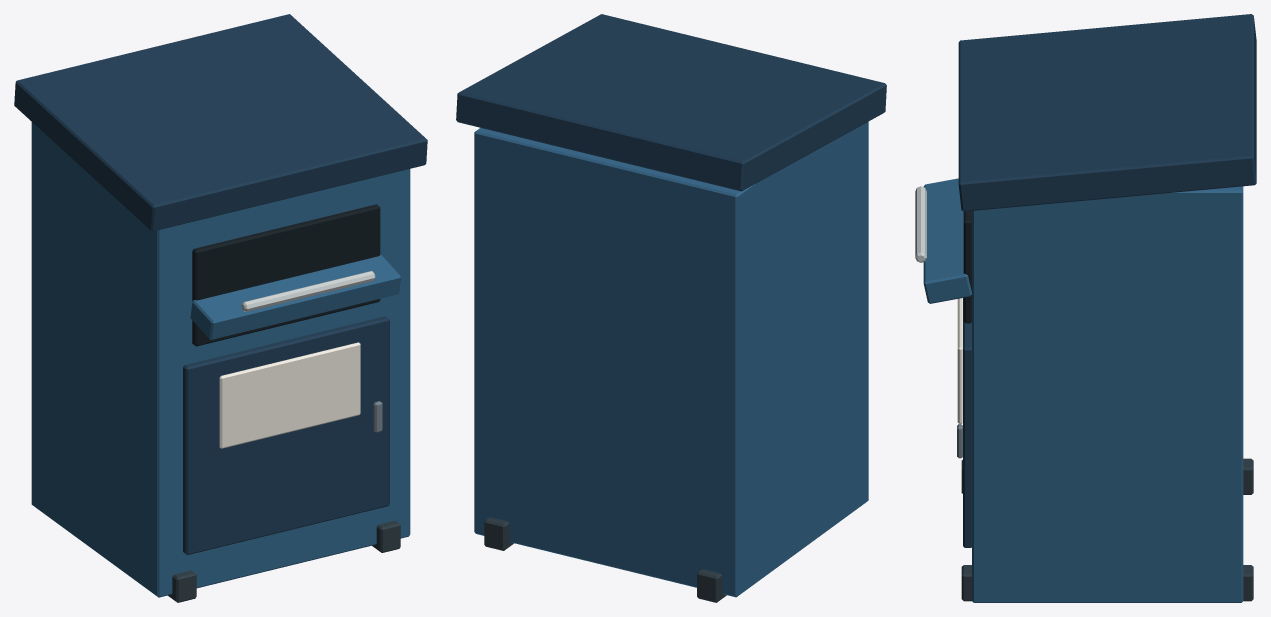
The model's file is b04_clothing_donation_dropbox.glb.
3 views of the same model, side by side, from view 1: azimuth 30°, elevation 25°; view 2: azimuth 150°, elevation 25°; view 3: azimuth 270°, elevation 25° (orthographic). The views are drawn at different scales.
Visible parts, largest first — view 1: b04_clothing_donation_dropbox; view 2: b04_clothing_donation_dropbox; view 3: b04_clothing_donation_dropbox.
Boxes of the visible parts, x1,y1,x2,y2 form: b04_clothing_donation_dropbox: (14, 14, 427, 602); b04_clothing_donation_dropbox: (456, 14, 886, 602); b04_clothing_donation_dropbox: (915, 14, 1256, 602).
Bounding box in the file's own units: 1.35 × 2.01 × 1.36.
